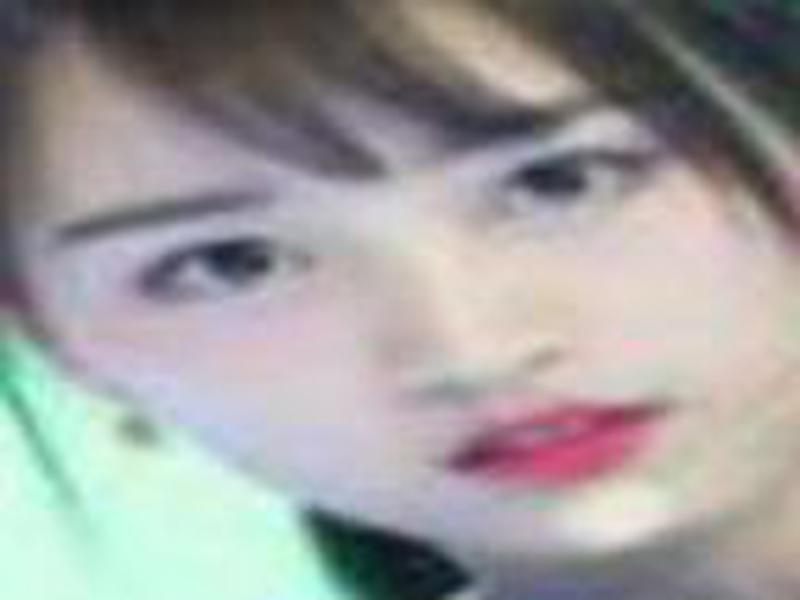without_mask: (10, 38, 800, 555)
